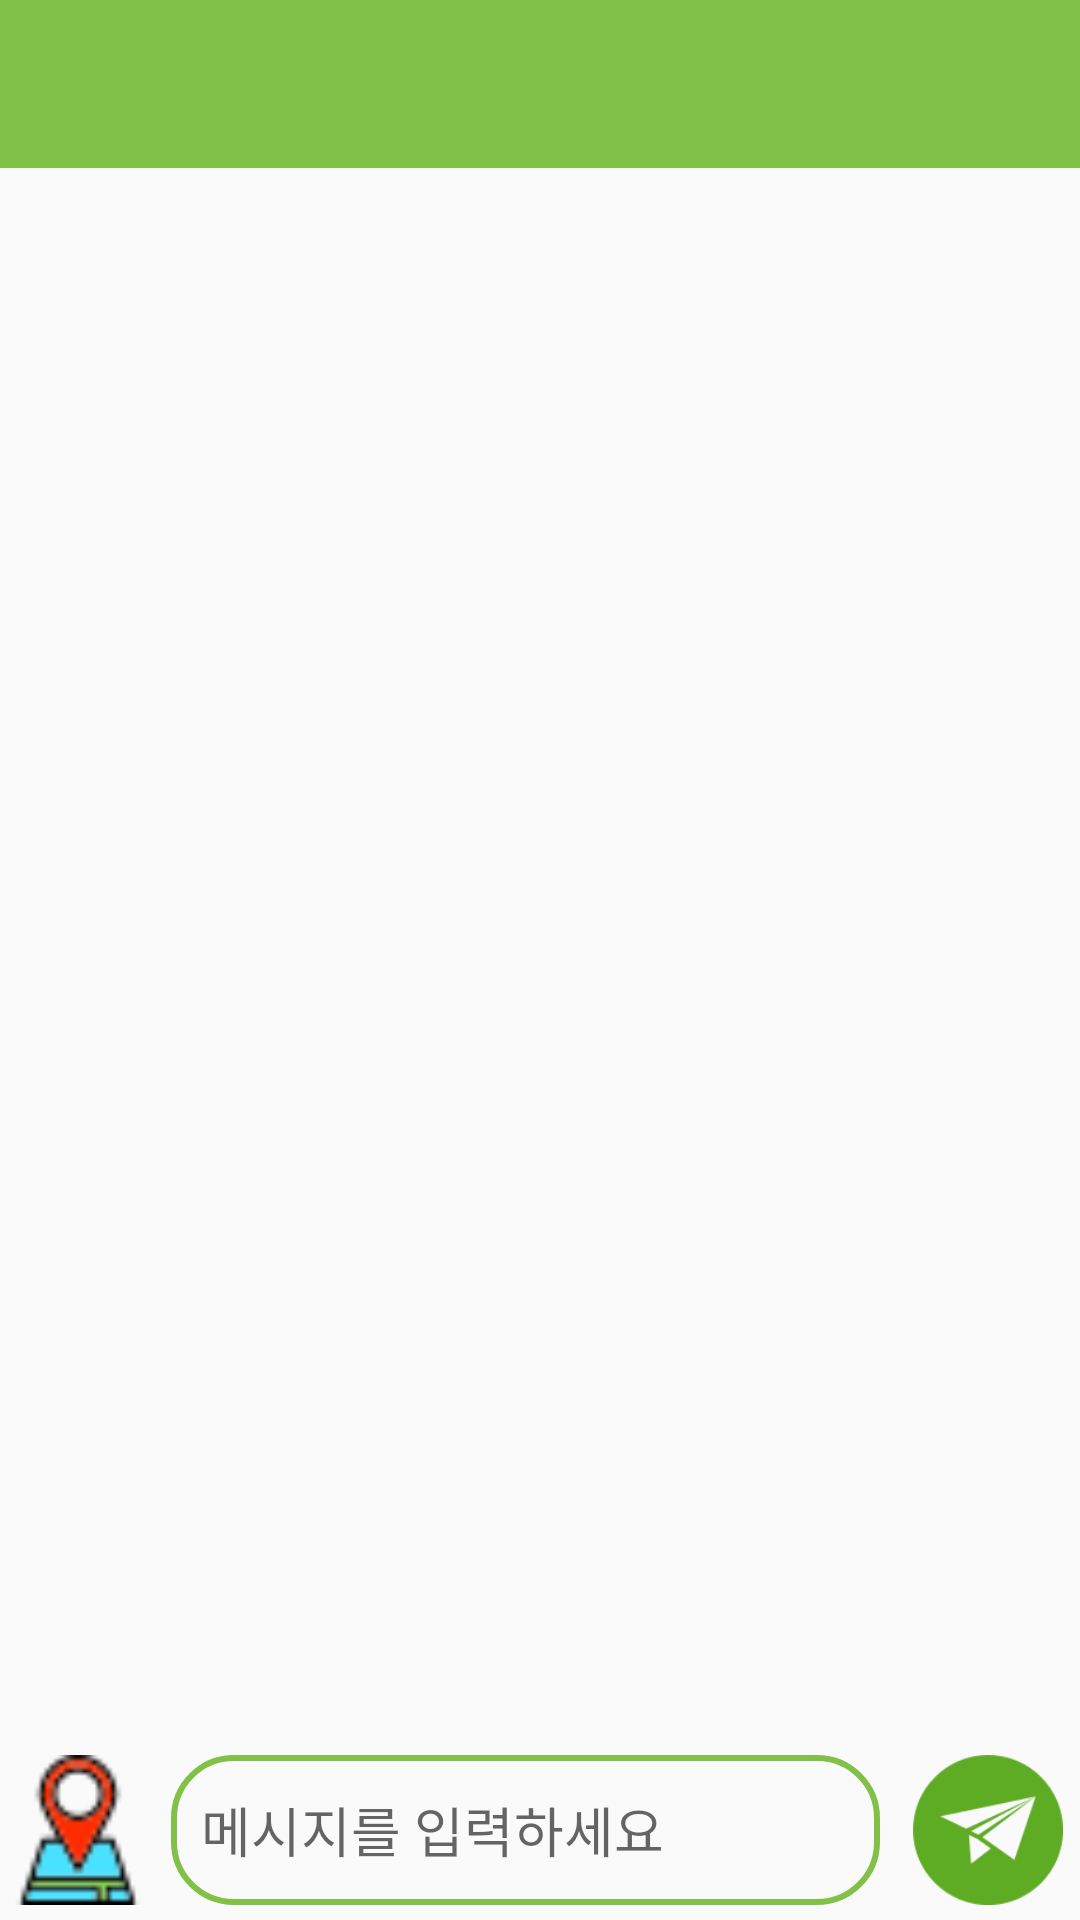

Named icons in this screenshot (1080x1920) and their centers, [x,y]:
map menu: [78,1830]
send: [988,1830]
